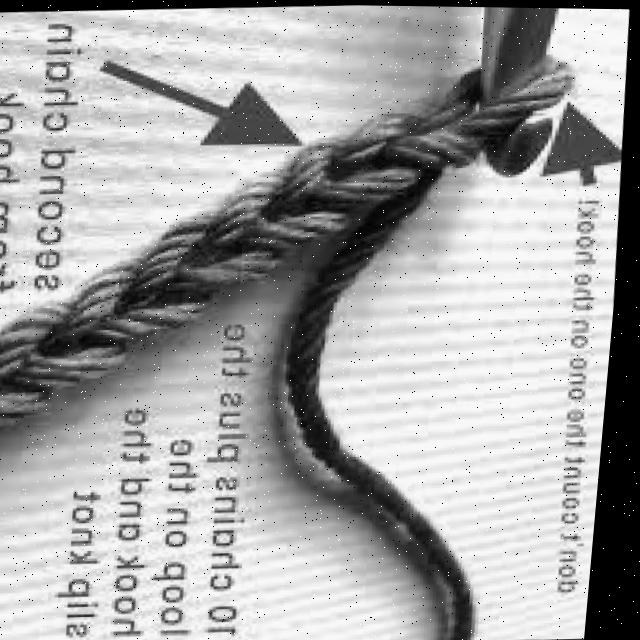ch: (44, 256, 211, 352), (136, 208, 295, 302), (0, 297, 134, 389), (273, 135, 425, 209), (326, 111, 483, 176), (222, 172, 348, 248)
